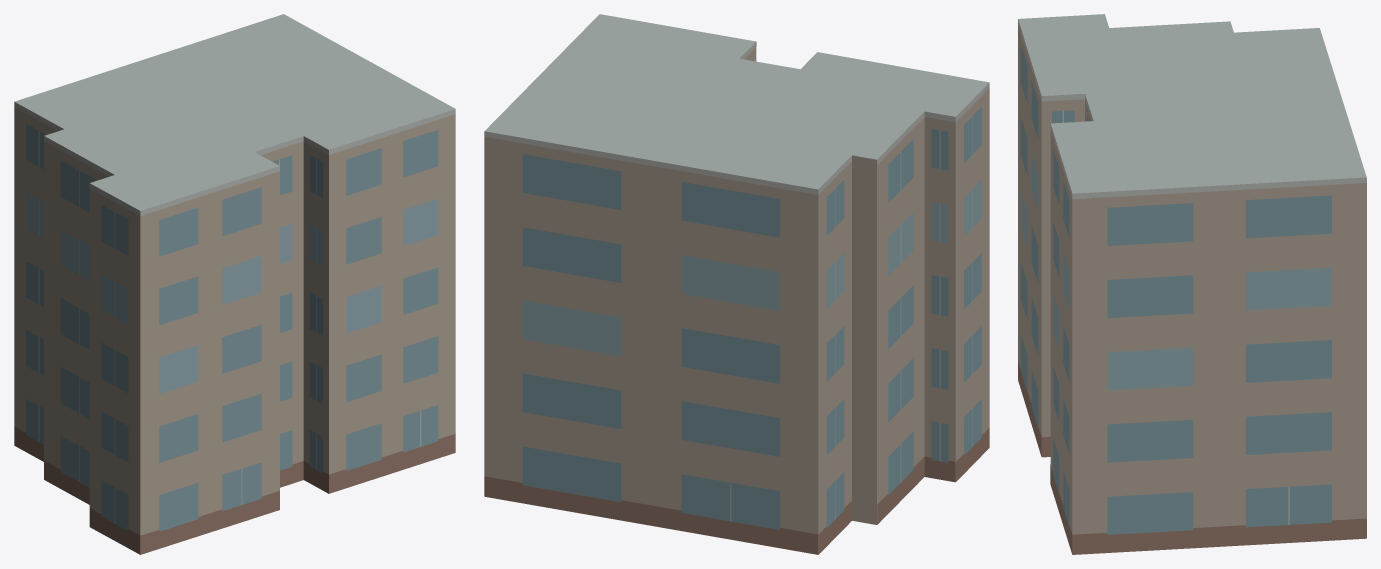
Rendered from survey-upis-32847209.glb.
3 renders of one model, left to right at view 1: azimuth 30°, elevation 25°; view 2: azimuth 150°, elevation 25°; view 3: azimuth 270°, elevation 25°, orthographic. The views are drawn at different scales.
Visible parts, largest first — view 1: survey-upis-32847209.tmp; view 2: survey-upis-32847209.tmp; view 3: survey-upis-32847209.tmp.
Boxes of the visible parts, x1,y1,x2,y2 form: survey-upis-32847209.tmp: (14,14,455,554); survey-upis-32847209.tmp: (484,14,989,554); survey-upis-32847209.tmp: (1018,14,1366,554).
Size of the model in its own units: 17.14 by 16.05 by 14.06.
